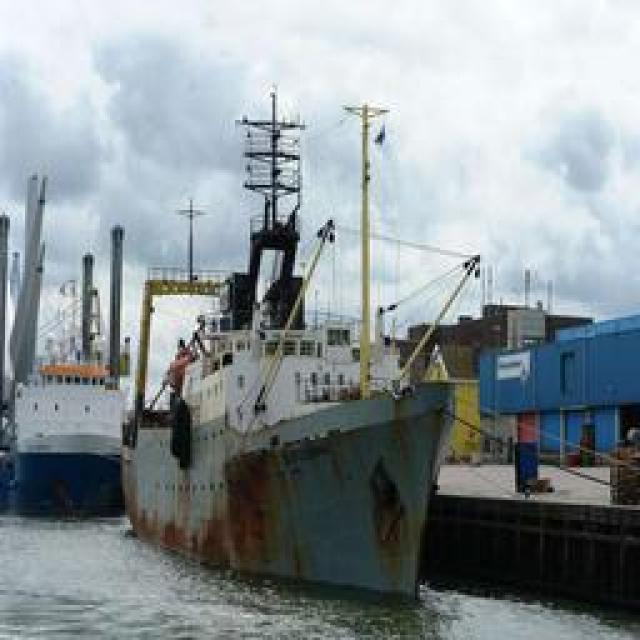CIV_Ship: (127, 81, 455, 591)
